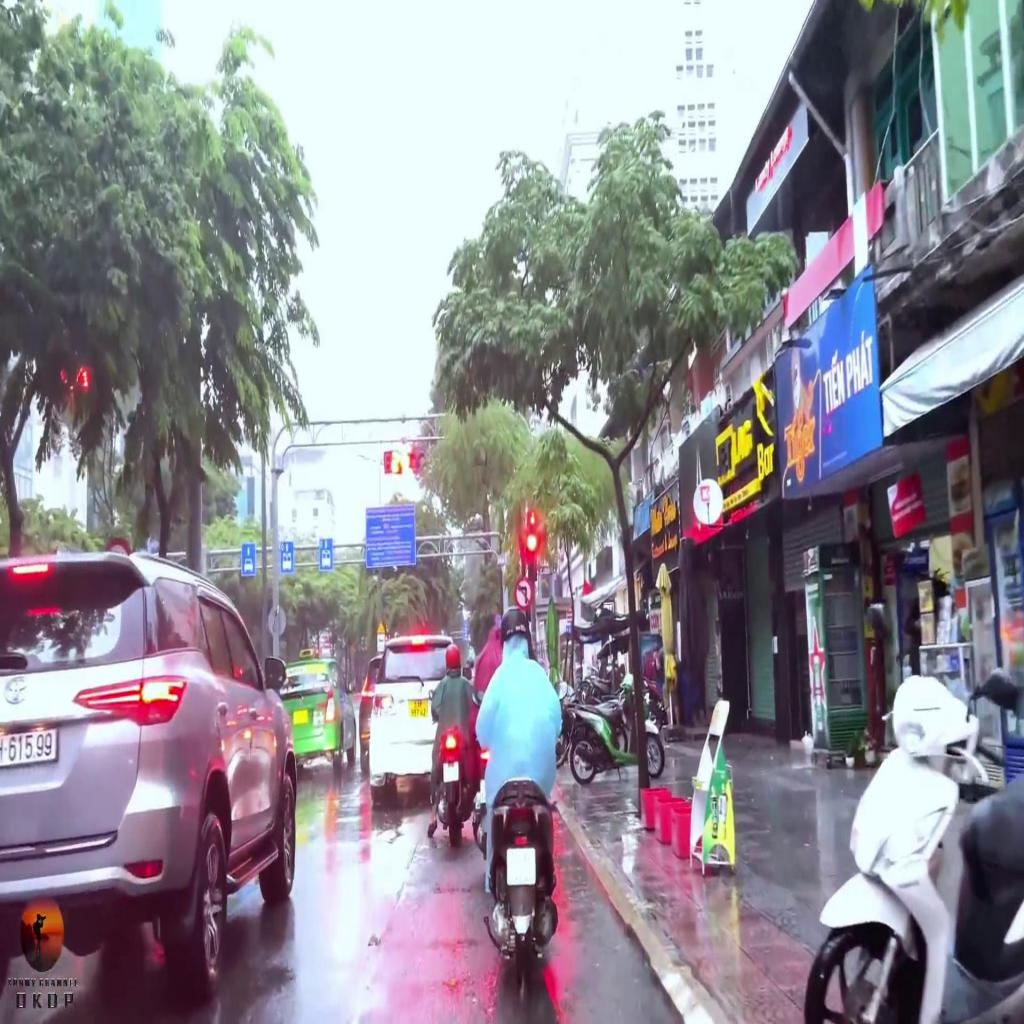cam_re_trai: (514, 576, 533, 607)
duong_cho_xe_o_to: (241, 543, 256, 574)
khac: (318, 536, 332, 572), (280, 542, 294, 576)
